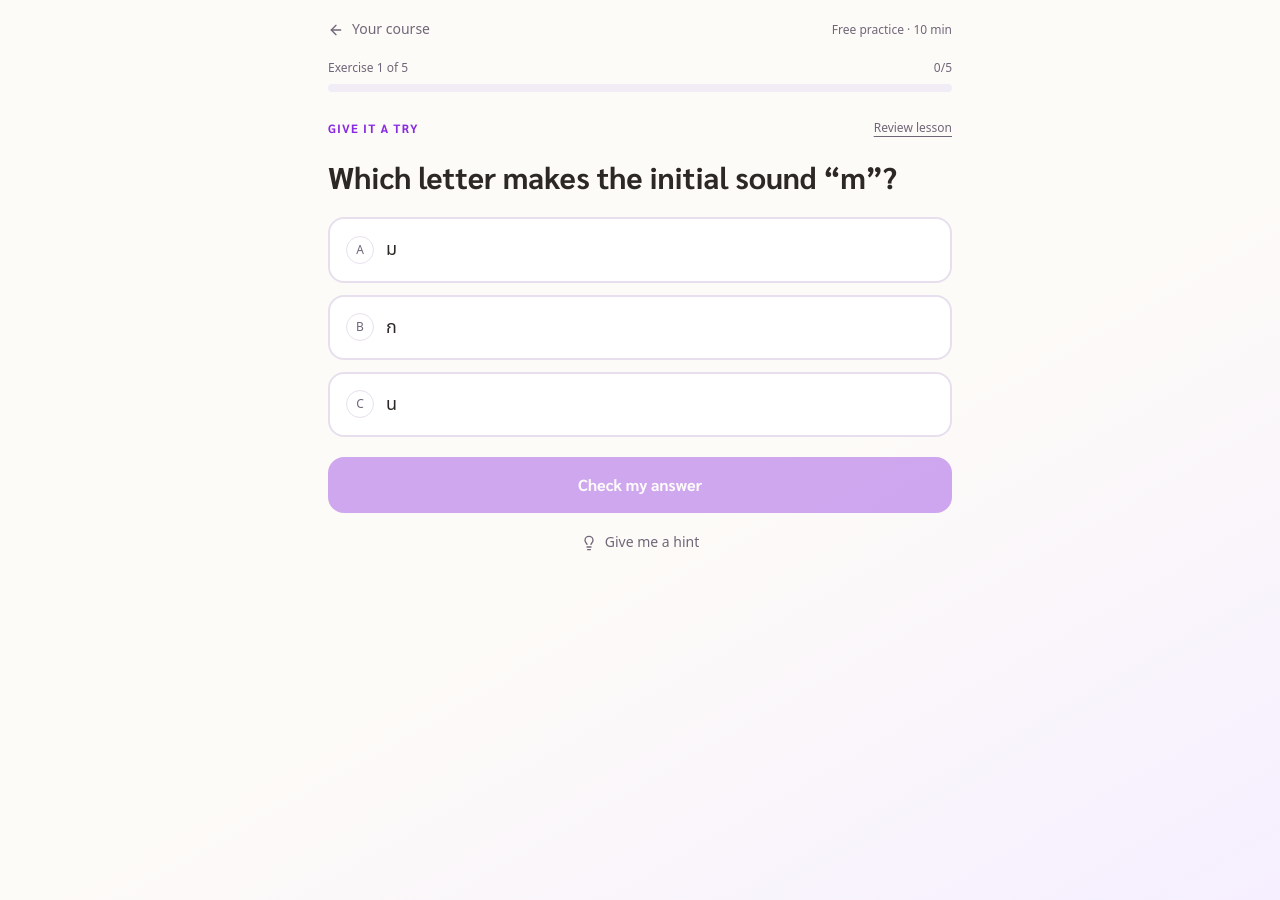
lesson resume and save failures › does not reveal lesson notes when recording help fails
Click the button "Review lesson" at {"x": 913, "y": 128}, box [874,120,952,136]
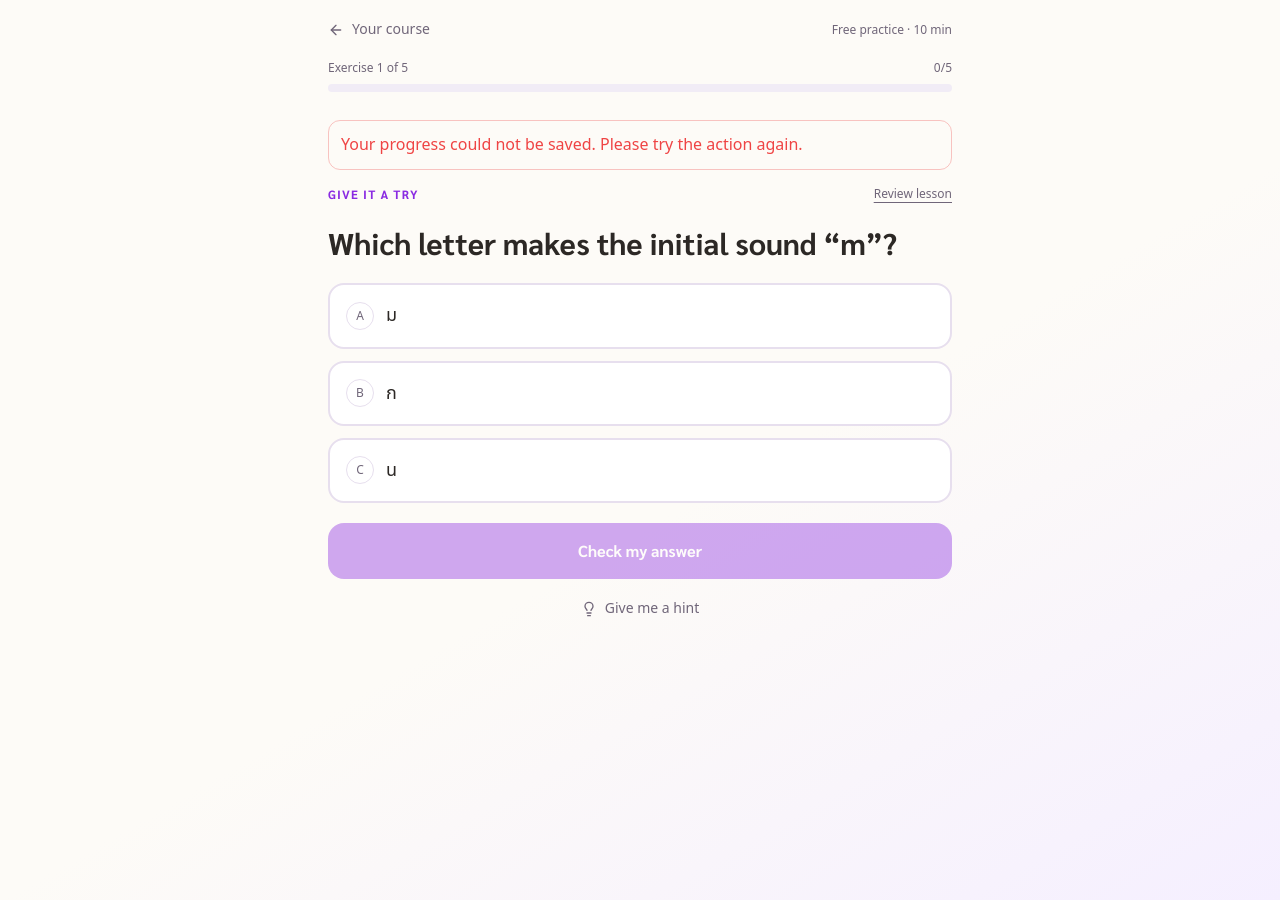
Result: the message shows "Your progress could not be saved" at [341,133,803,157]
